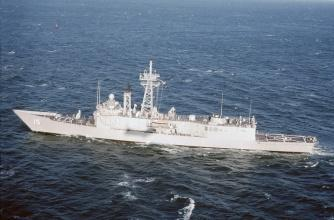warship: (9, 65, 319, 151)
